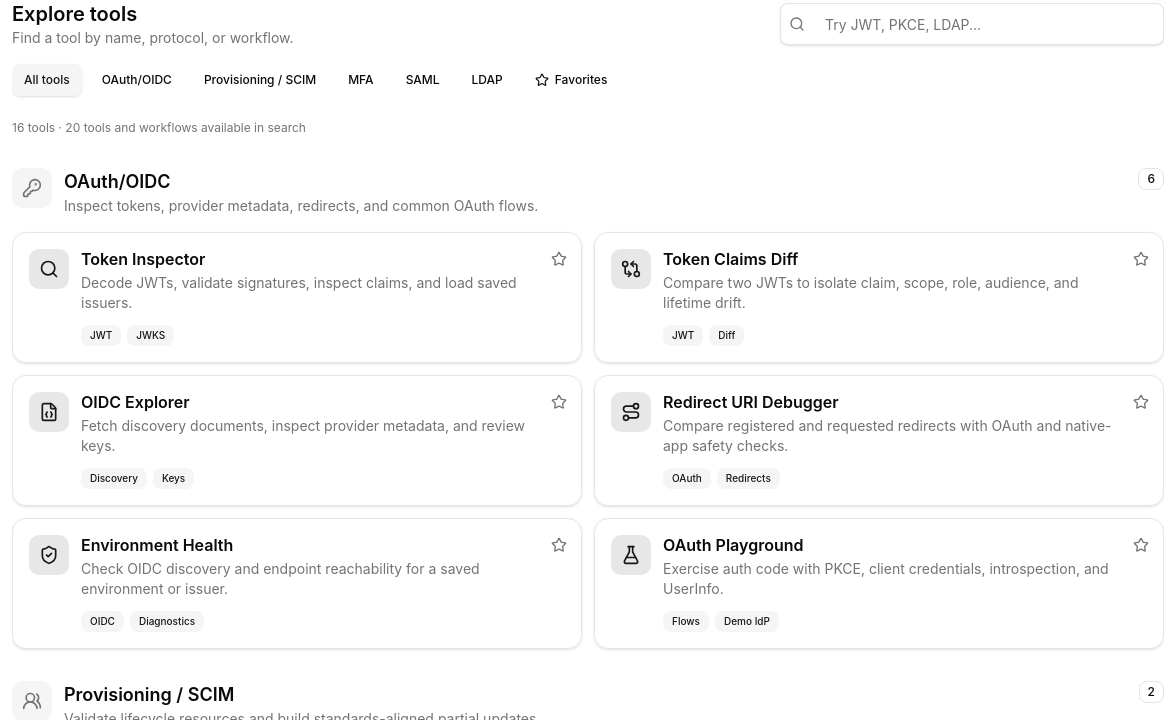
Test case: Tool catalog browser › combines protocol and text filters and recovers from empty results
This screenshot has width=1176, height=720.
Click the button "LDAP" at point(487, 80), box [460,64,515,96]
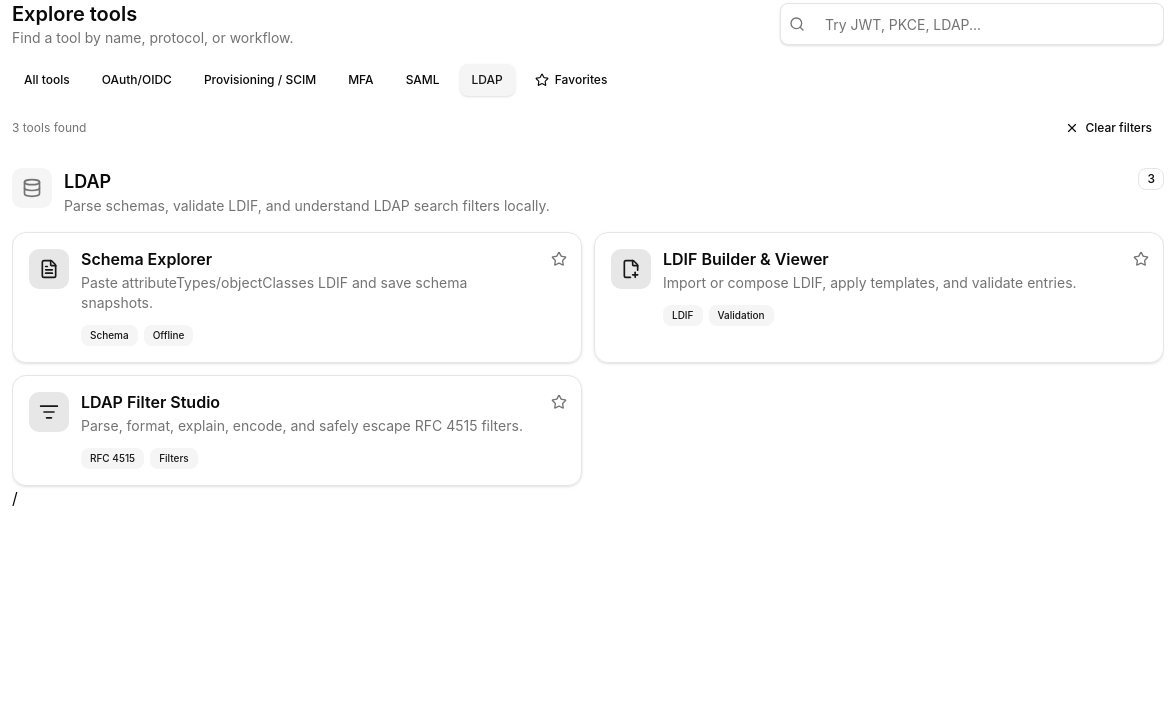
Expected: the message reads "3 tools found", [12,120,86,136]
Expected: the link with test id "home-card-token-inspector" is gone
Type "RFC 4515" into the search field named "Filter tool catalog" at point(988, 24), box [813,4,1163,44]
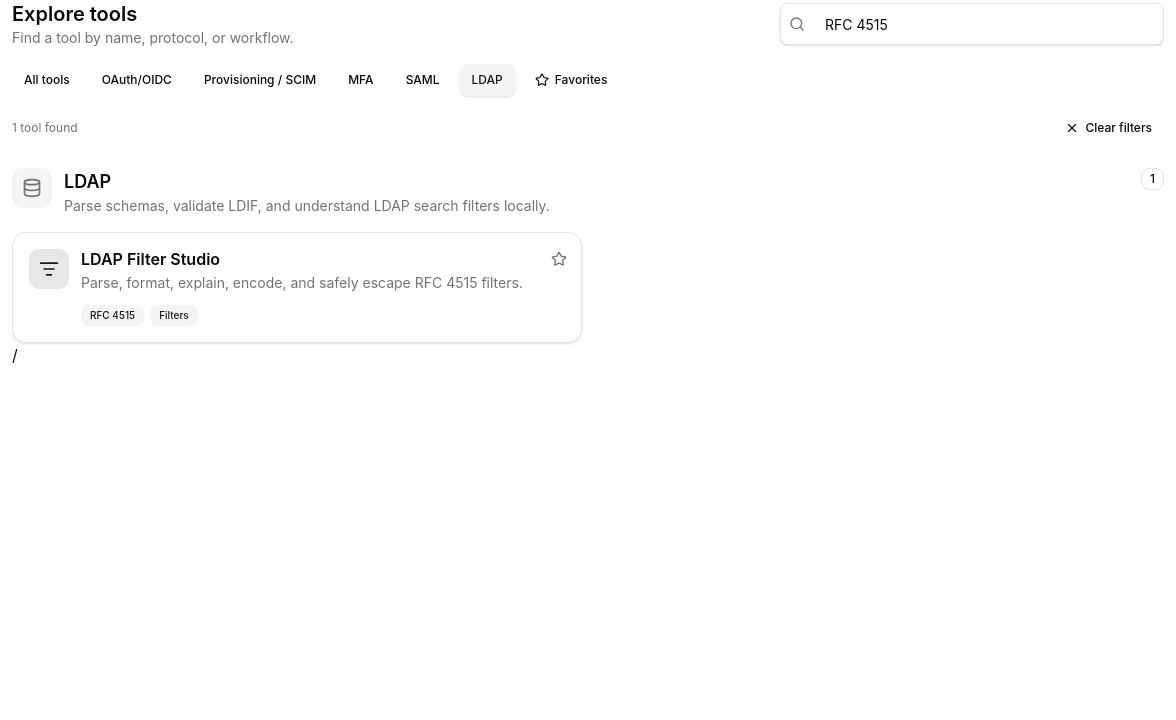
Expected: the link "LDAP Filter Studio" is shown, [13,233,541,342]
Expected: the message reads "1 tool found", [12,120,78,136]
Replace the text in the search field named "Filter tool catalog" with "jwt" at point(988, 24), box [813,4,1163,44]
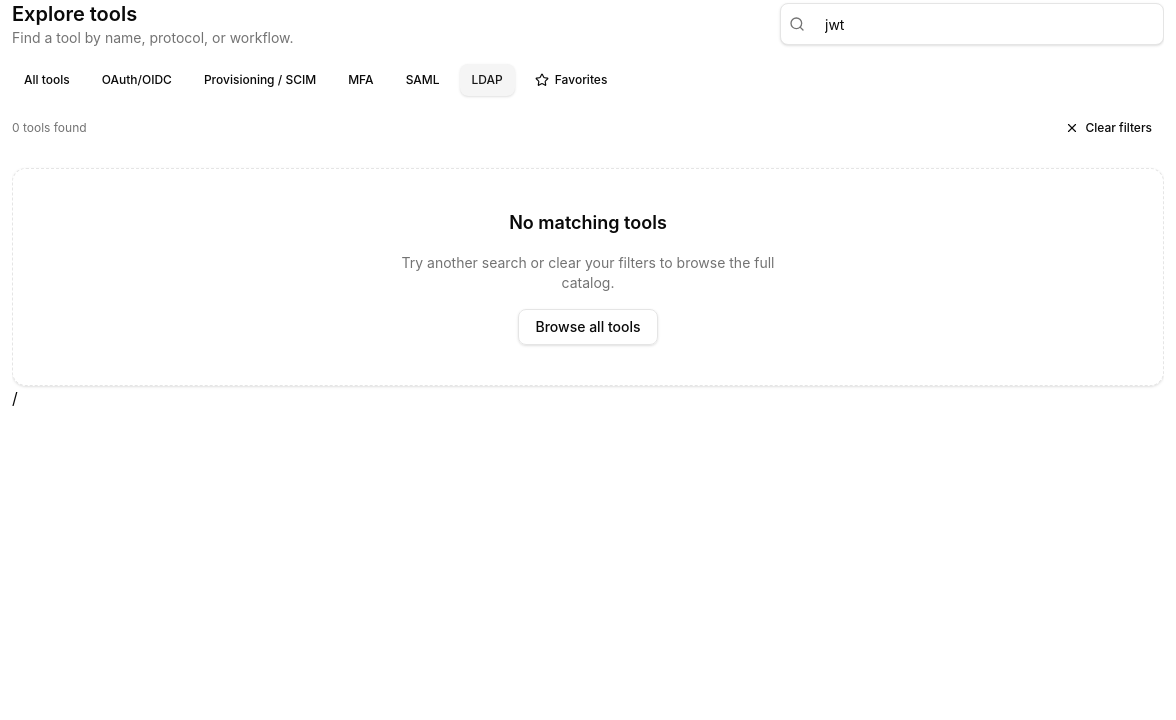
Expected: the heading "No matching tools" is shown, [509,209,667,237]
Click the button "Browse all tools" at point(588, 327), box [518,309,658,345]
(page scrolled)
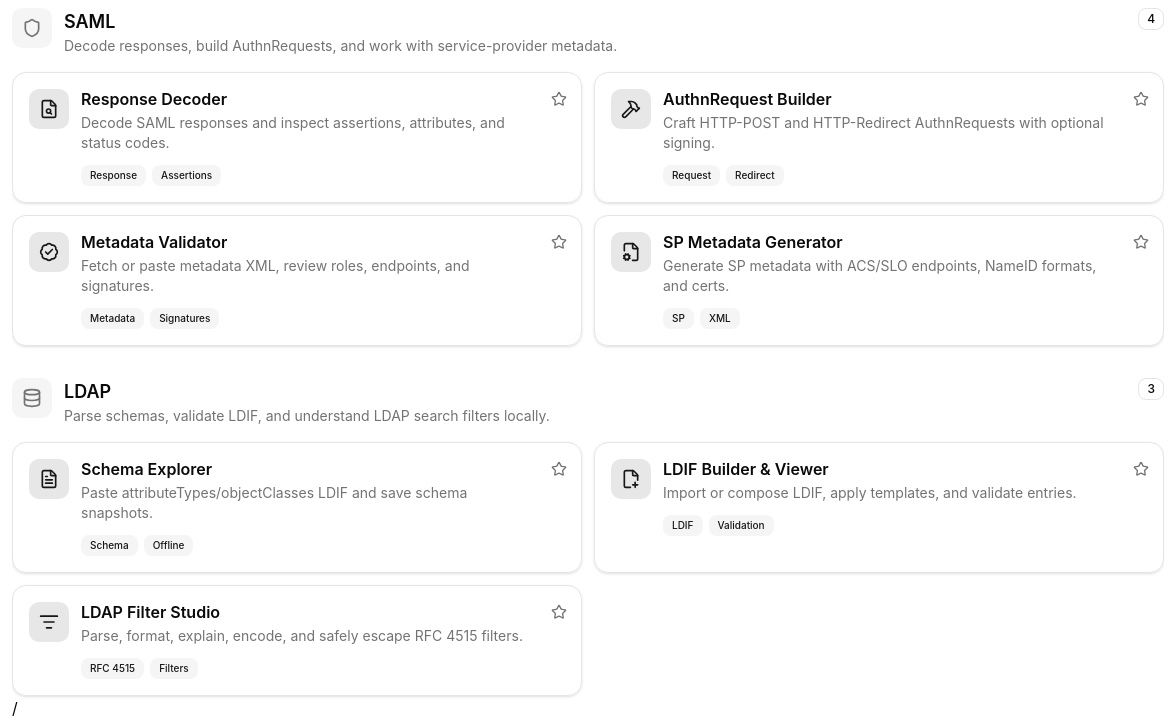
Expected: the link with test id "home-card-ldap-filter-studio" is shown, [13,586,541,695]
